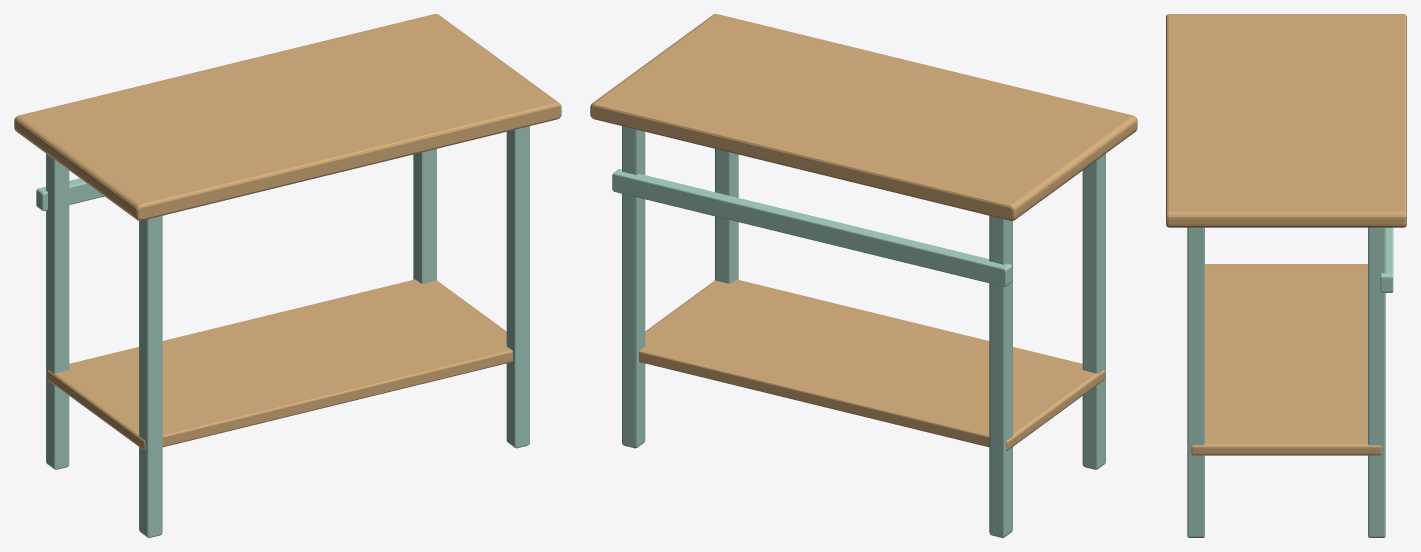
The model's file is workbench.glb.
The picture shows the model from 3 angles, left to right: view 1: azimuth 30°, elevation 25°; view 2: azimuth 150°, elevation 25°; view 3: azimuth 270°, elevation 25°; orthographic projection. The views are drawn at different scales.
Parts seen in each view (by area): view 1: worktop, lower_shelf, leg (×4), rear_rail; view 2: worktop, lower_shelf, leg (×4), rear_rail; view 3: worktop, lower_shelf, leg (×2), rear_rail.
Boxes of the visible parts, x1,y1,x2,y2 form: worktop: (14, 14, 561, 220); lower_shelf: (46, 279, 512, 450); leg (×4): (46, 126, 529, 537); rear_rail: (36, 178, 104, 210); worktop: (590, 14, 1137, 220); lower_shelf: (639, 279, 1105, 450); leg (×4): (622, 126, 1105, 537); rear_rail: (612, 169, 1012, 286); worktop: (1166, 14, 1406, 227); lower_shelf: (1191, 264, 1381, 455); leg (×2): (1187, 227, 1385, 537); rear_rail: (1380, 227, 1393, 292).
Size of the model in its own units: 0.95 by 0.7375 by 0.48.
